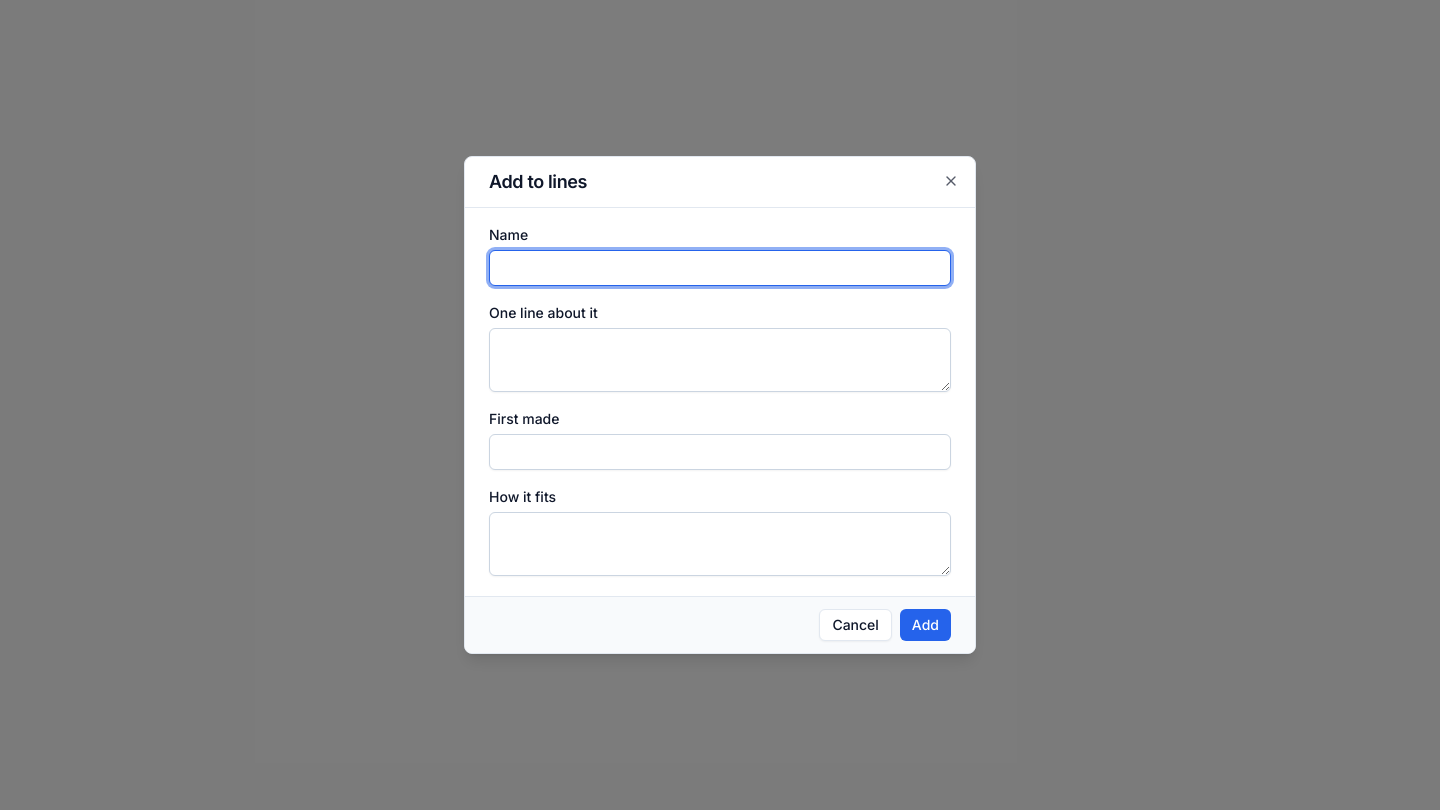
Test case: saving from the add dialog › shows the shop's earlier sentence and the blank-field sentence together, with nothing else lost
The width and height of the screenshot is (1440, 810).
Type "Samba" into the field labelled "Name".
click(720, 268); type("Samba")  # box [489, 250, 951, 286]
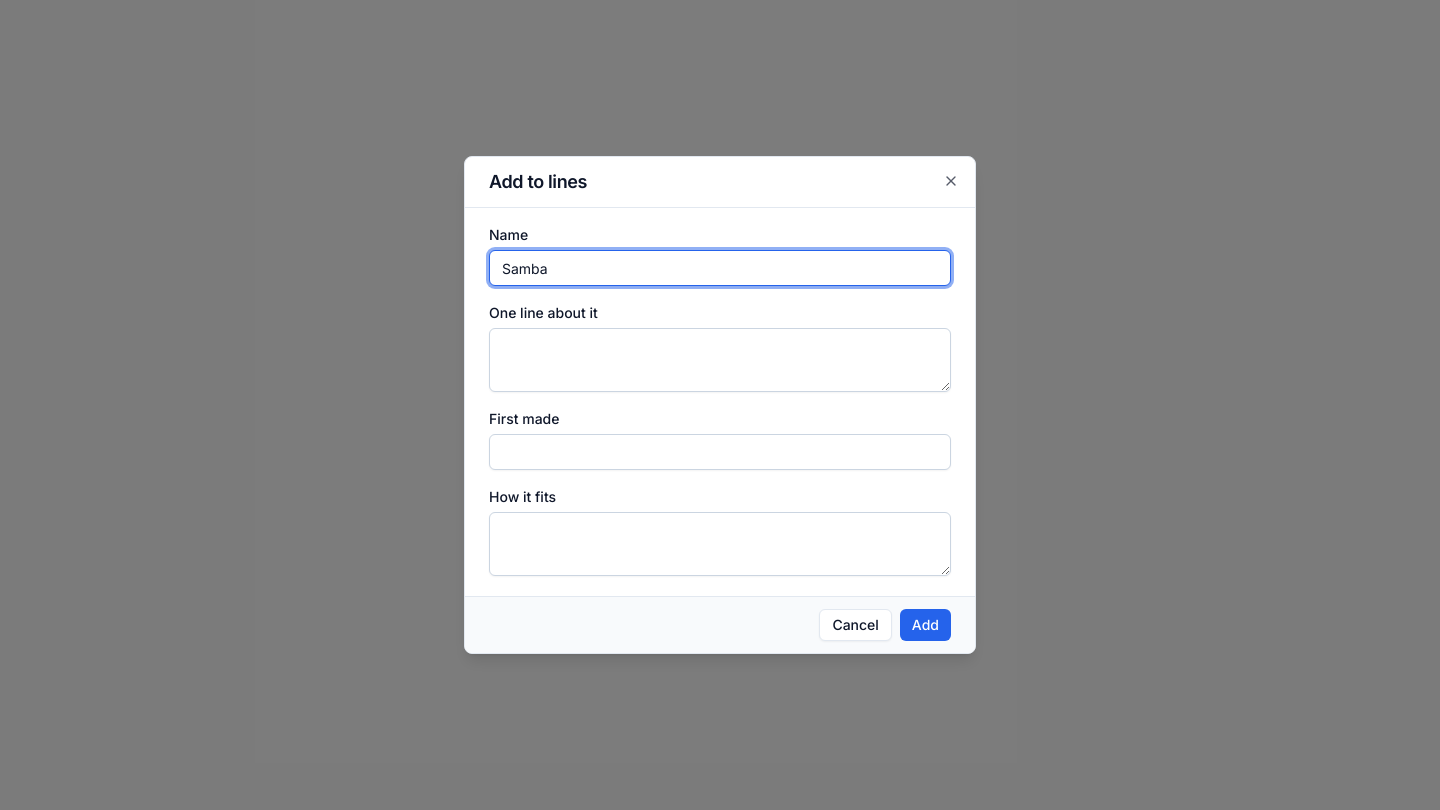
Type "1949" into the number field labelled "First made".
click(720, 452); type("1949")  # box [489, 434, 951, 470]
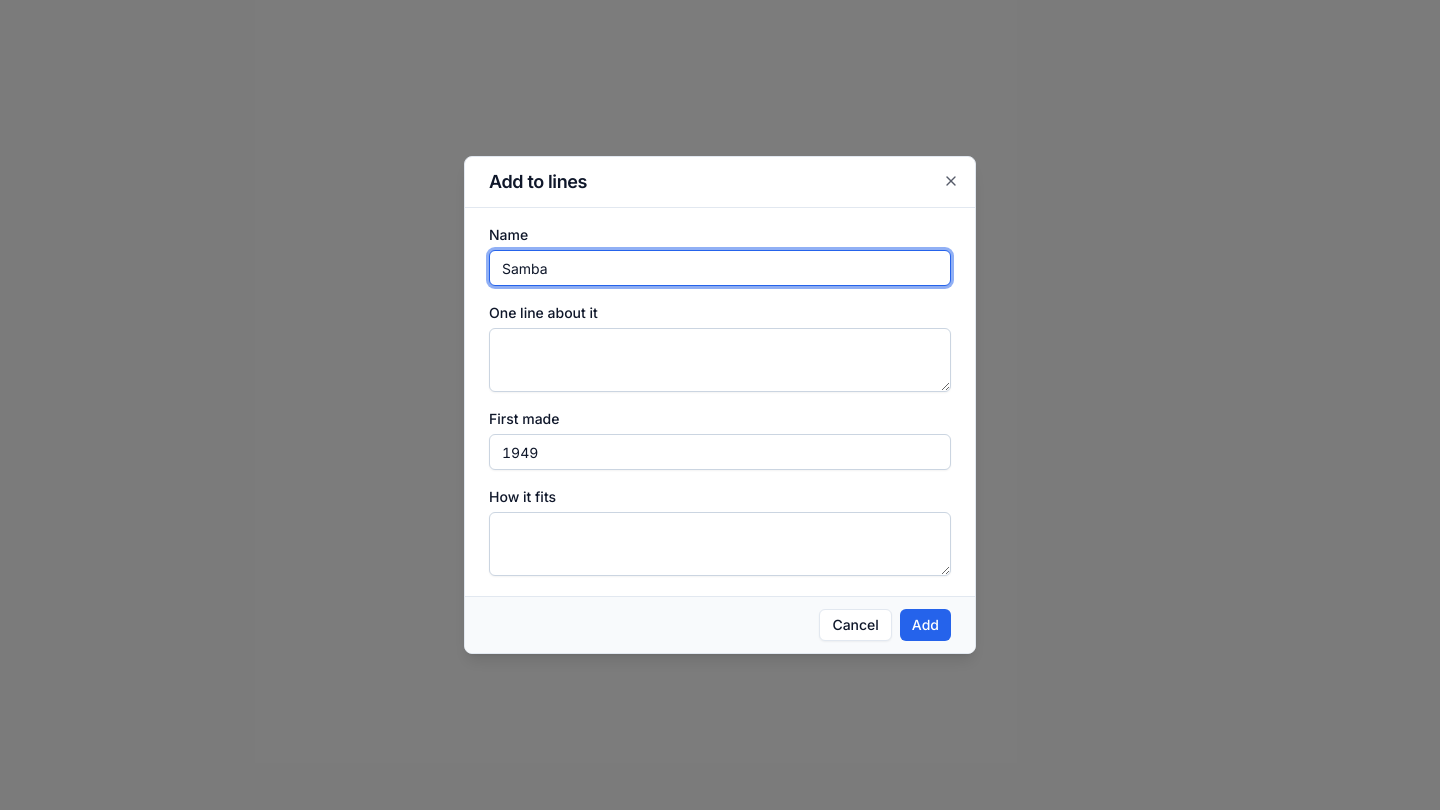
Click the button "Add".
click(925, 625)  # box [900, 609, 951, 641]
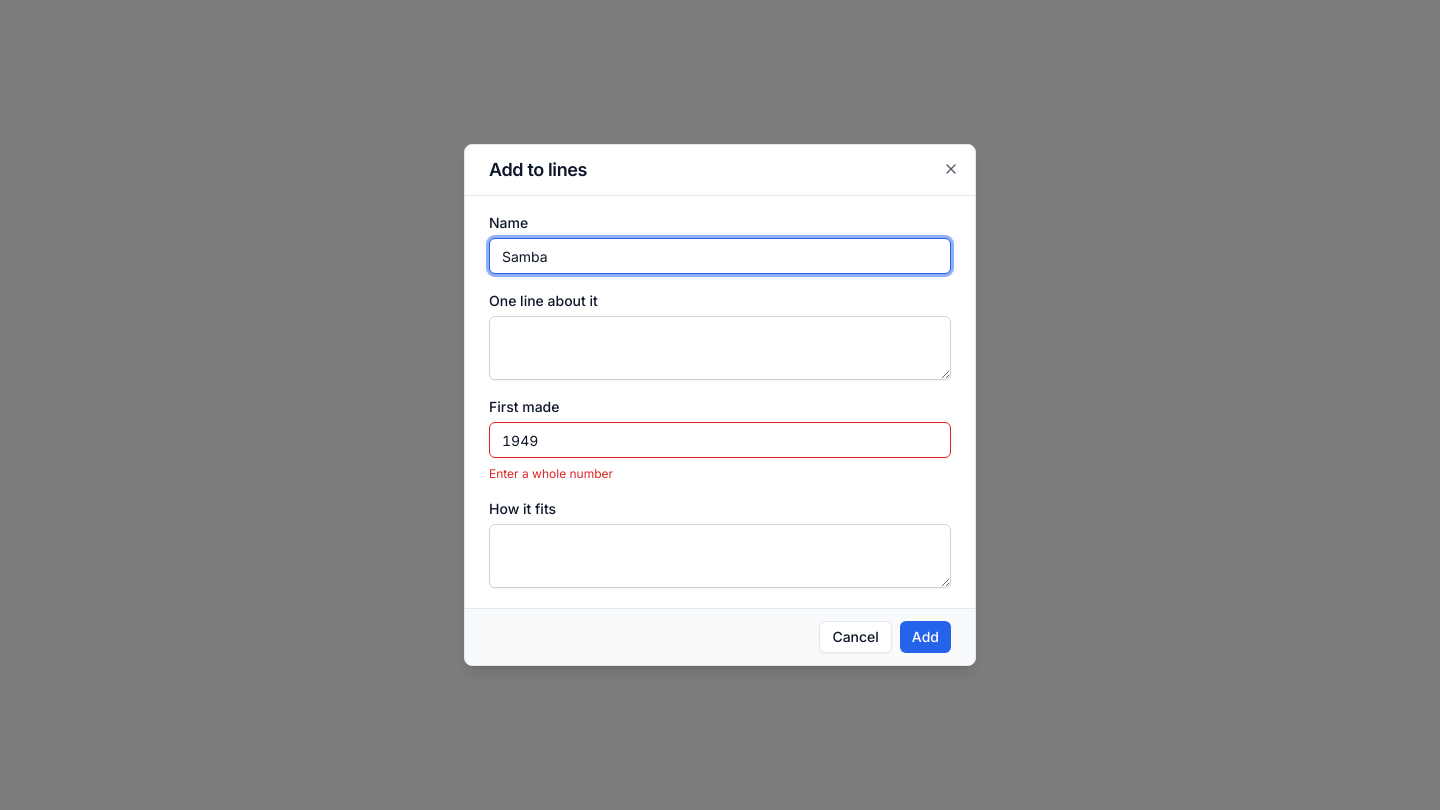
Now the text "Enter a whole number" is shown, box [489, 466, 613, 481]
Clear the field labelled "Name" at (720, 256), box [489, 238, 951, 274]
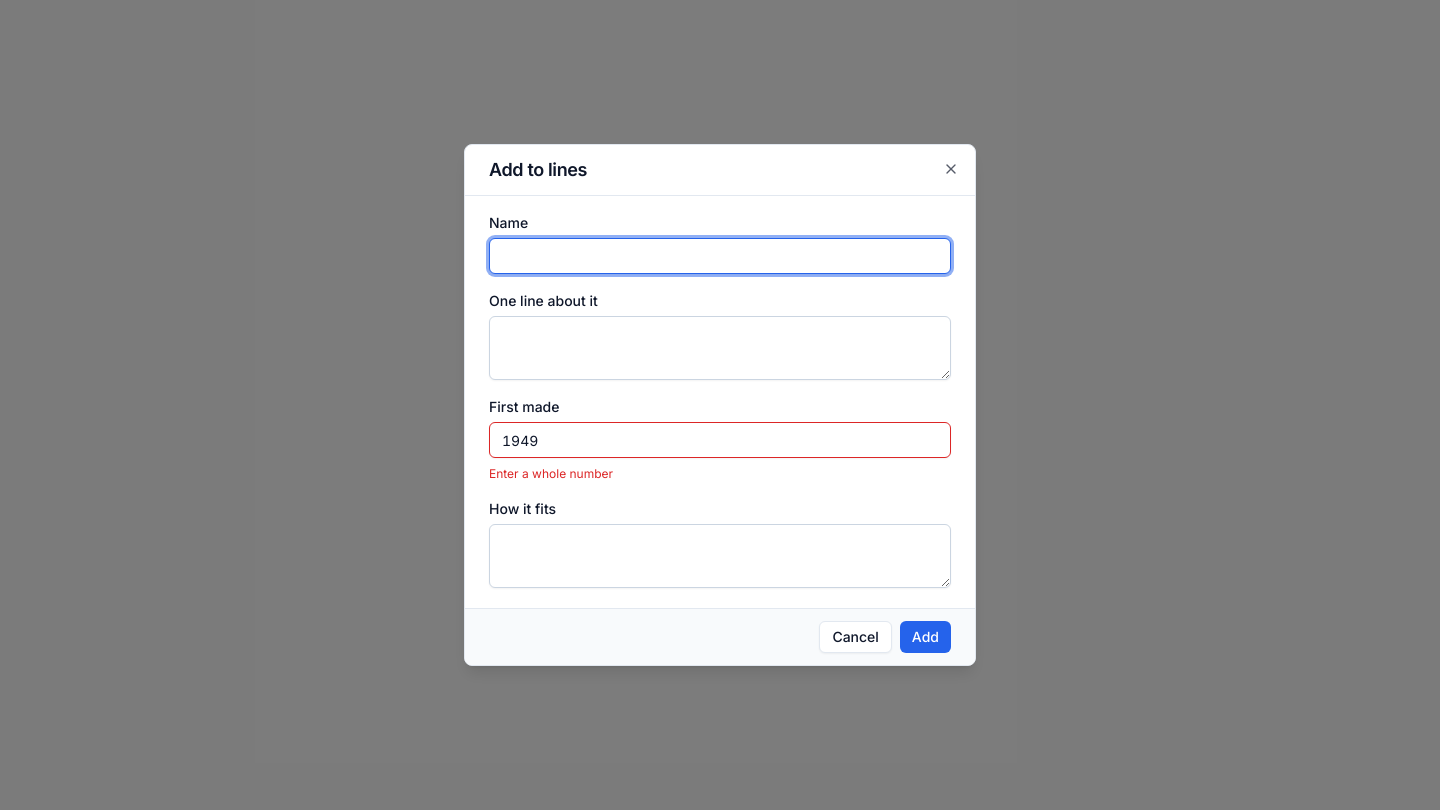
Click the button "Add".
click(925, 637)  # box [900, 621, 951, 653]
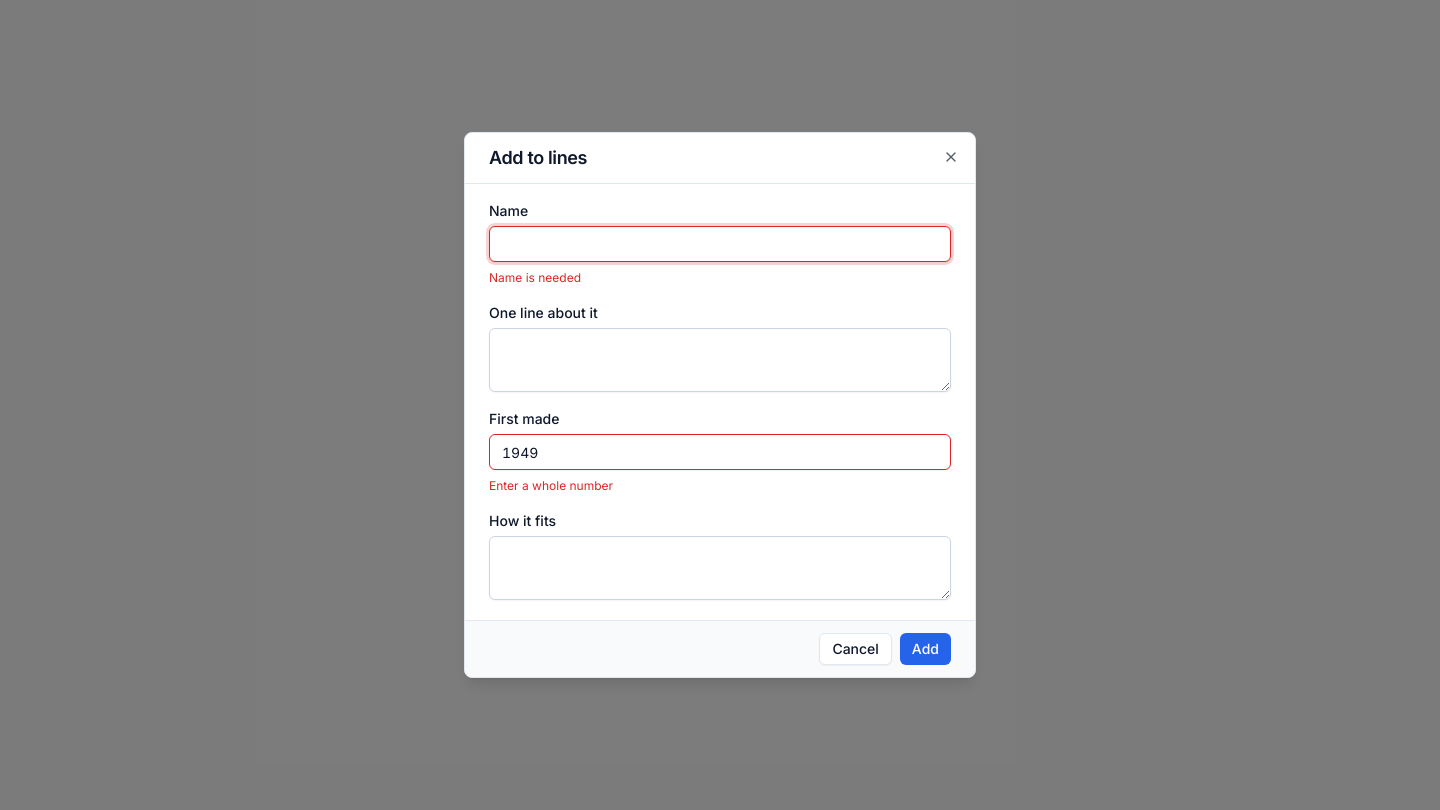
Now the text "Enter a whole number" is shown, box [489, 478, 613, 493]
Now the text "Name is needed" is shown, box [489, 270, 581, 285]
Replace the text in the number field labelled "First made" with "1950" at (720, 452), box [489, 434, 951, 470]
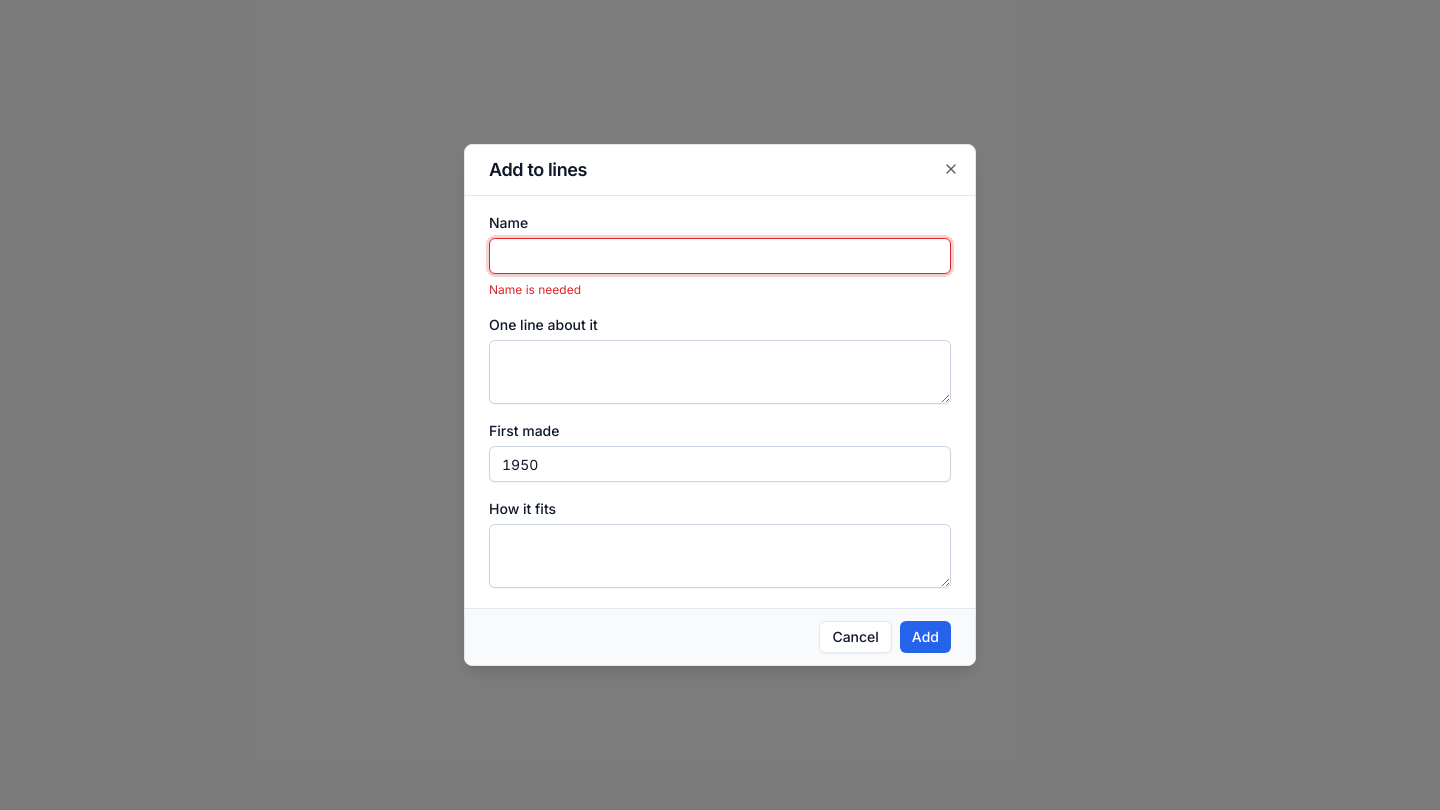
Now the text "Name is needed" is shown, box [489, 282, 581, 297]
Now the text "Enter a whole number" is gone
